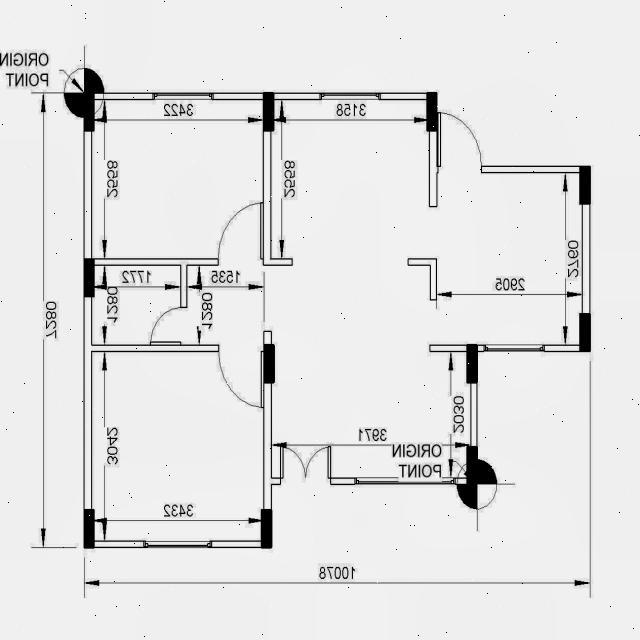Column: (262, 92, 274, 132), (260, 509, 272, 549), (466, 344, 478, 384), (263, 344, 275, 384), (579, 313, 591, 352), (579, 166, 591, 204), (466, 446, 478, 484), (427, 92, 438, 132), (84, 258, 95, 298), (84, 509, 95, 549), (84, 94, 95, 132)
Door: (218, 201, 264, 266), (218, 344, 264, 408), (437, 111, 482, 173), (150, 307, 188, 346)
Double-Door: (280, 445, 331, 485)
Window: (354, 478, 456, 486), (143, 540, 212, 548), (319, 92, 381, 100), (152, 92, 214, 100), (483, 344, 545, 352)
